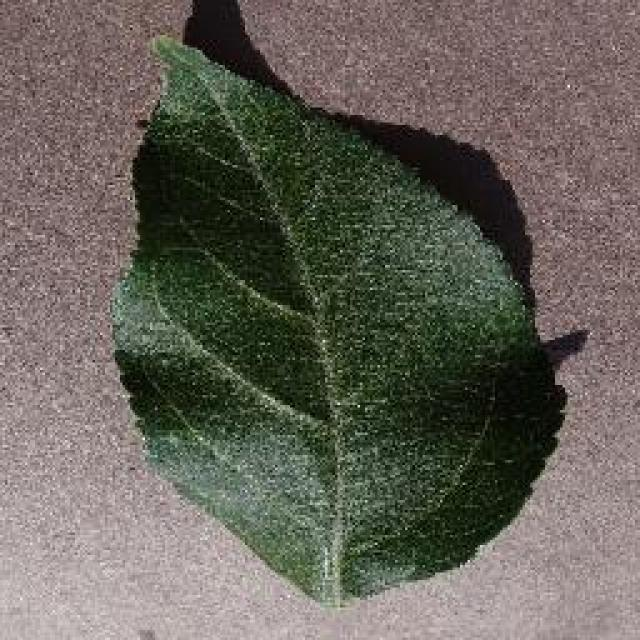apple healthy: (108, 28, 562, 608)
